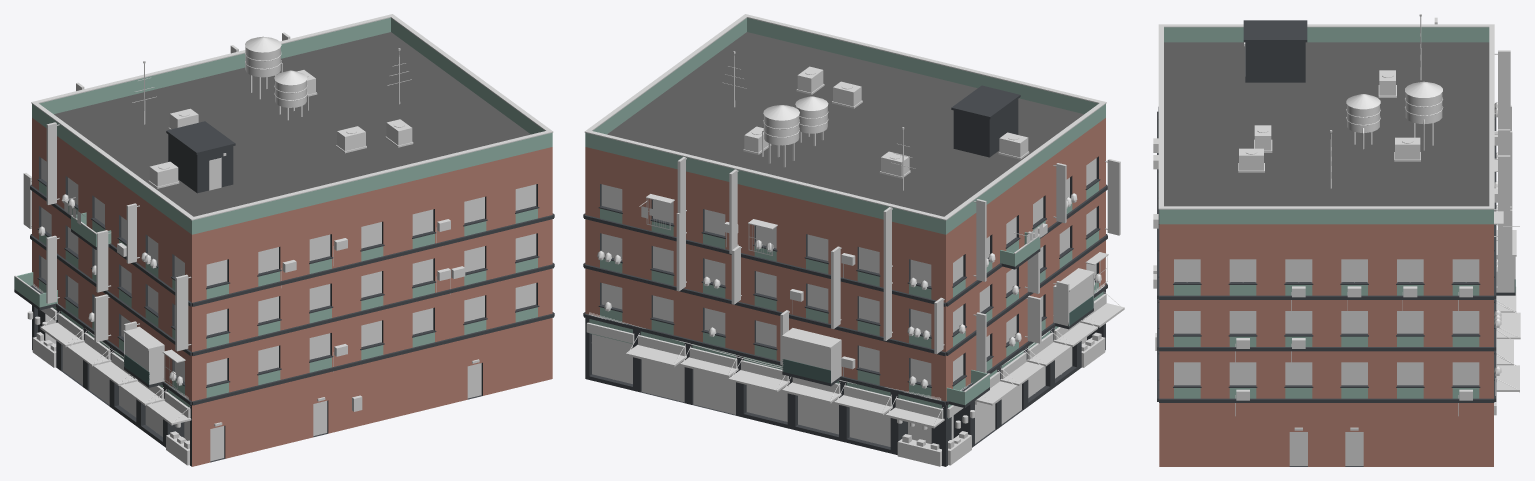
File: Plaza_Block_20.fbx
The picture shows the model from 3 angles, left to right: view 1: azimuth 30°, elevation 25°; view 2: azimuth 150°, elevation 25°; view 3: azimuth 270°, elevation 25°; orthographic projection. The views are drawn at different scales.
Visible parts, largest first — view 1: Plaza_Block_20_LOD0; view 2: Plaza_Block_20_LOD0; view 3: Plaza_Block_20_LOD0.
Boxes of the visible parts, x1=… form: Plaza_Block_20_LOD0: x1=14, y1=14, x2=554, y2=466; Plaza_Block_20_LOD0: x1=583, y1=14, x2=1124, y2=466; Plaza_Block_20_LOD0: x1=1153, y1=14, x2=1520, y2=466.
Size of what is drawn, in the model's own units: 28.25 by 20.34 by 21.96.
